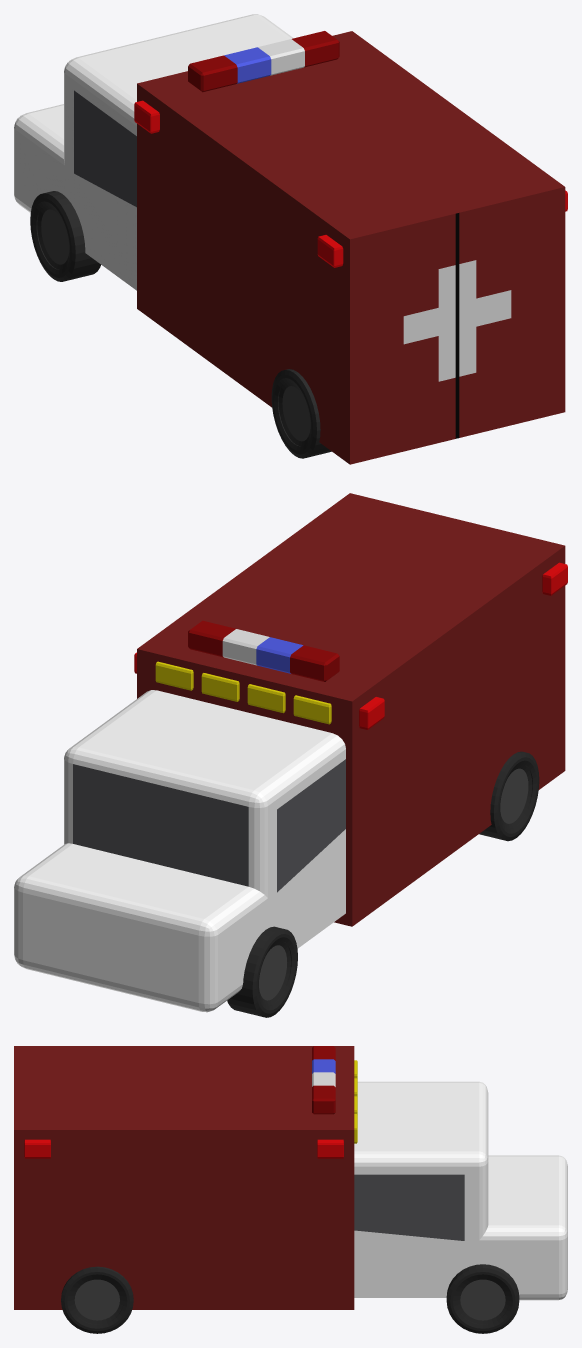
Rendered from ambulance.fbx.
3 renders of one model, top to bottom at view 1: azimuth 30°, elevation 25°; view 2: azimuth 150°, elevation 25°; view 3: azimuth 270°, elevation 25°, orthographic. The views are drawn at different scales.
Parts seen in each view (by area): view 1: Cube.005; view 2: Cube.005; view 3: Cube.005.
Boxes of the visible parts, x1,y1,x2,y2 form: Cube.005: [14, 14, 567, 464]; Cube.005: [14, 493, 567, 1017]; Cube.005: [14, 1046, 567, 1333].
Size of the model in its own units: 226 by 252 by 579.
